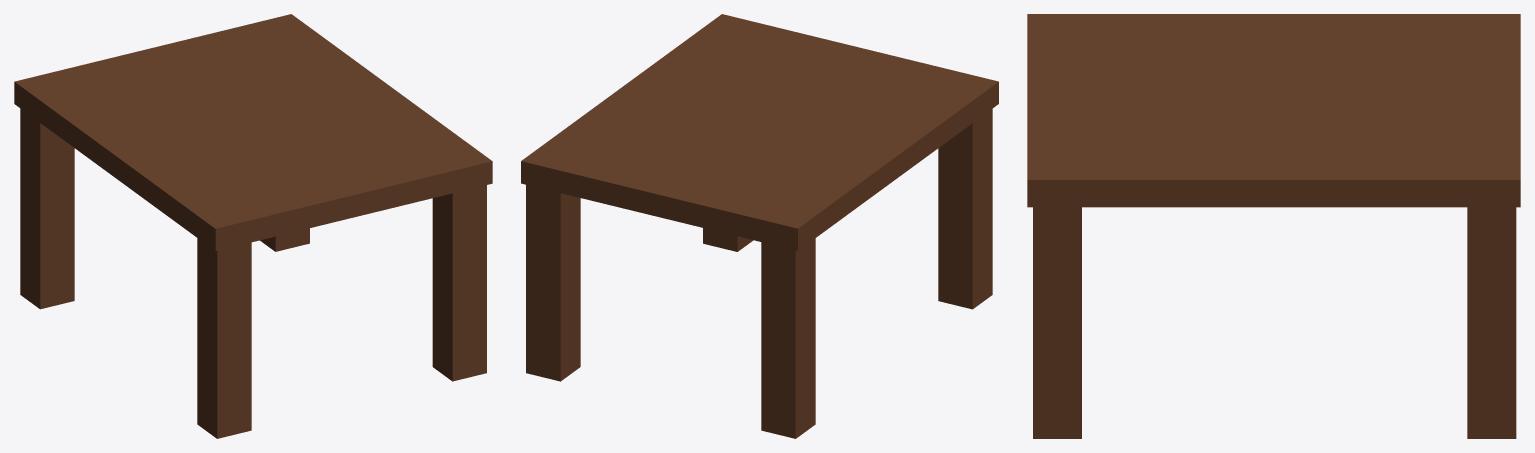
File: table.fbx
The picture shows the model from 3 angles, left to right: view 1: azimuth 30°, elevation 25°; view 2: azimuth 150°, elevation 25°; view 3: azimuth 270°, elevation 25°; orthographic projection. The views are drawn at different scales.
Visible parts, largest first — view 1: table; view 2: table; view 3: table.
Boxes of the visible parts, x1,y1,x2,y2 form: table: [14, 14, 492, 438]; table: [521, 14, 998, 438]; table: [1027, 14, 1520, 438].
Bounding box in the file's own units: 131 × 95.79 × 164.
